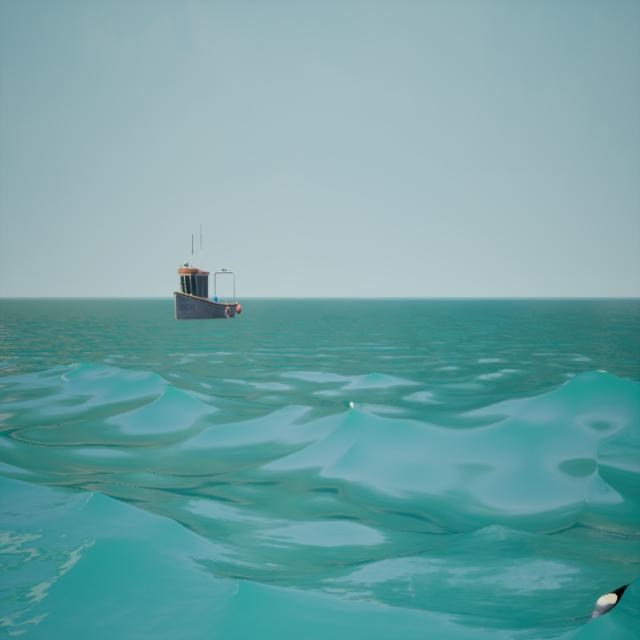ship: (166, 209, 249, 331)
